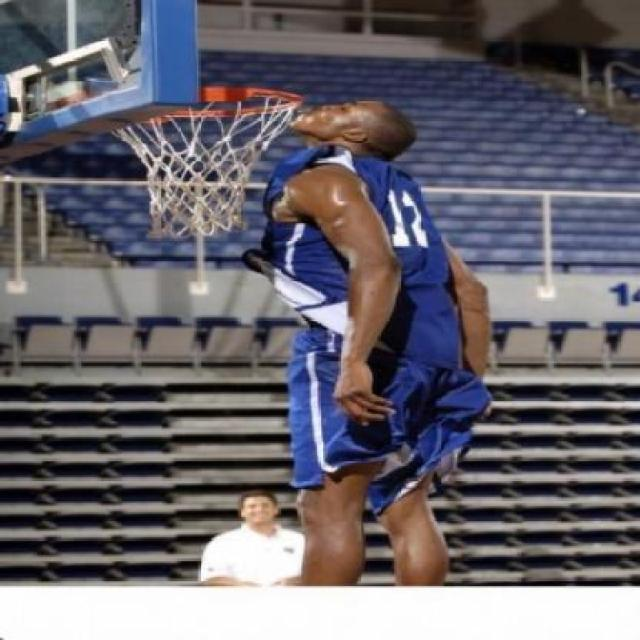rim: (112, 88, 304, 236)
